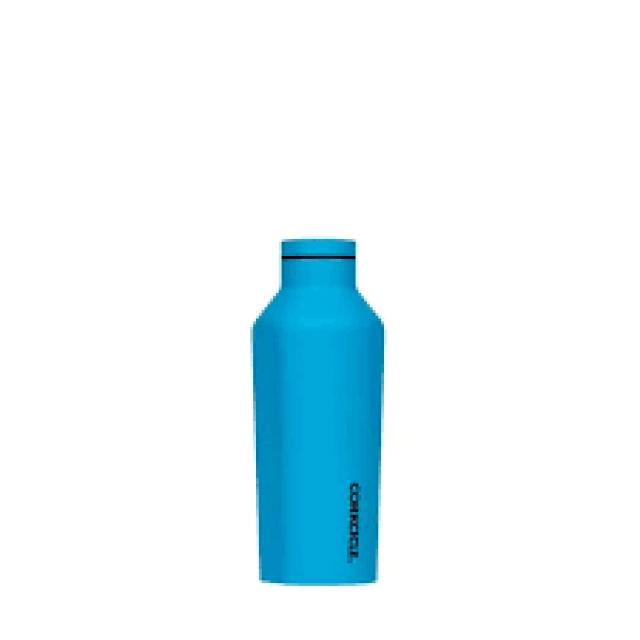bottle: (249, 239, 387, 588)
